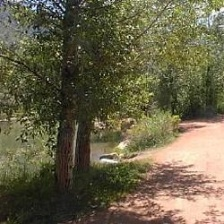neutral: (4, 1, 222, 222)
